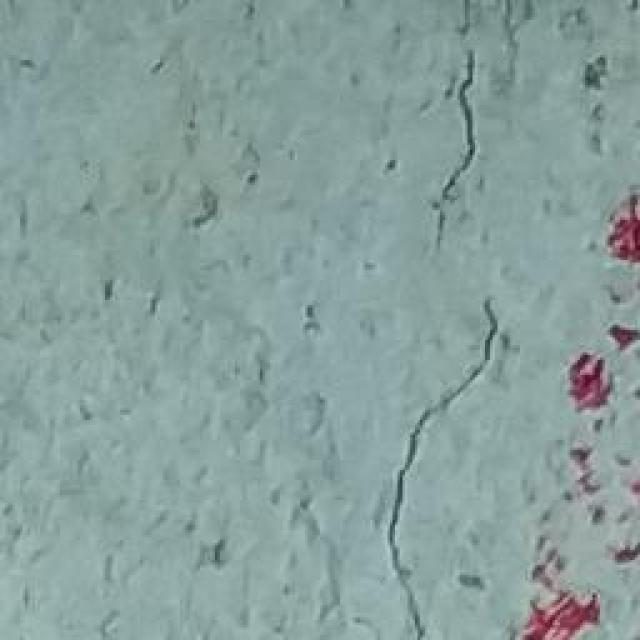Longitudinal: (340, 5, 570, 640)
